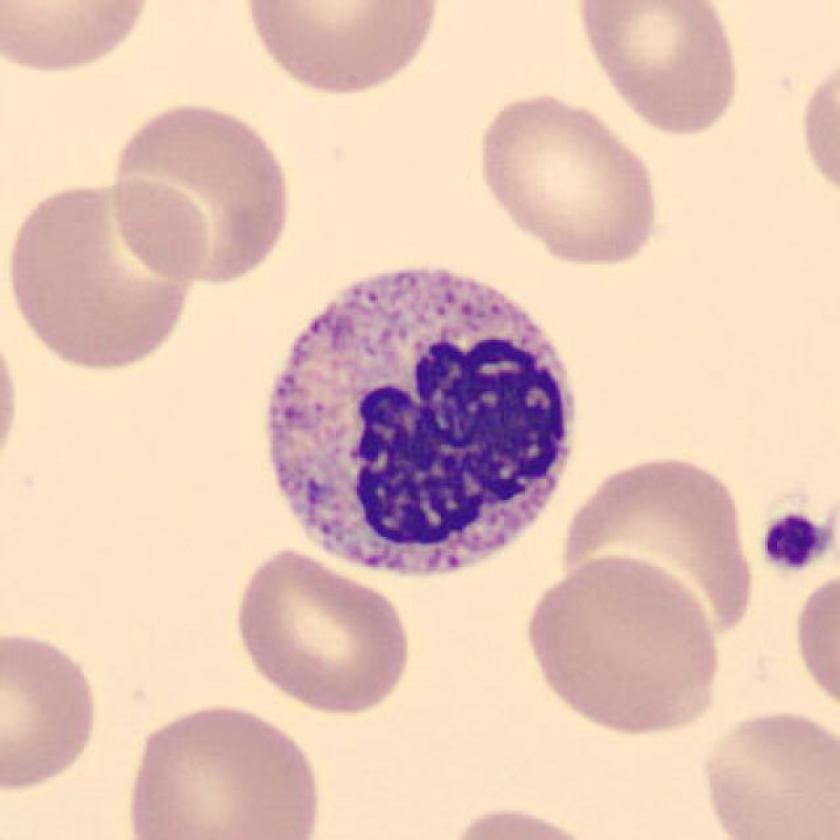neutrophil: (269, 271, 576, 580)
